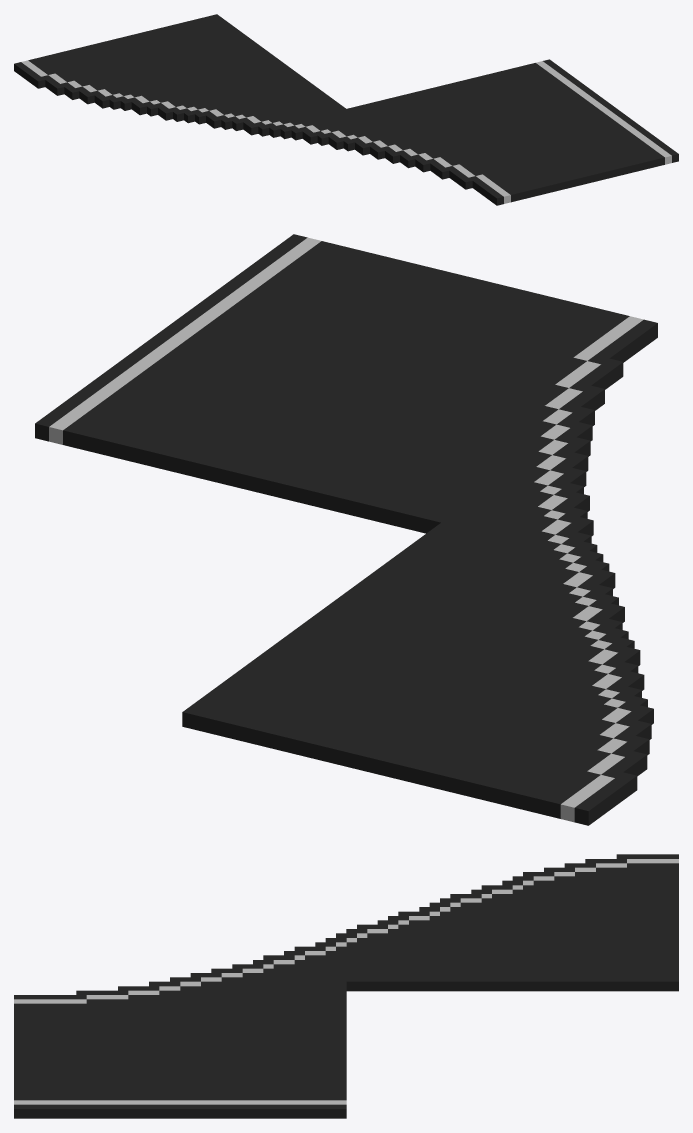
The model's file is asphalt-rounded-expand-2.gltf.
The picture shows the model from 3 angles, top to bottom: view 1: azimuth 30°, elevation 25°; view 2: azimuth 150°, elevation 25°; view 3: azimuth 270°, elevation 25°; orthographic projection. The views are drawn at different scales.
Parts seen in each view (by area): view 1: asphalt-rounded-expand-2_model; view 2: asphalt-rounded-expand-2_model; view 3: asphalt-rounded-expand-2_model.
Part boxes in pixels (bbox=[...]): asphalt-rounded-expand-2_model: bbox=[14, 14, 678, 205]; asphalt-rounded-expand-2_model: bbox=[35, 234, 657, 825]; asphalt-rounded-expand-2_model: bbox=[14, 854, 678, 1118].
Bounding box in the file's own units: 5.8 × 0.1 × 6.4.
Materials: 1 (1 with a texture image).
